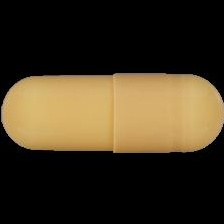67877-223: (0, 0, 224, 224)
